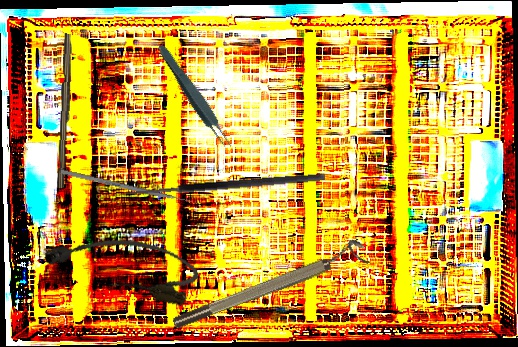Cannula: (39, 219, 204, 309)
Fixation Ring: (167, 236, 371, 333)
Hook Surgical: (118, 172, 327, 209)
Pusher: (60, 168, 201, 207)
Scalpel Handle: (56, 33, 75, 189)
Tissue Forceps: (153, 41, 236, 153)
